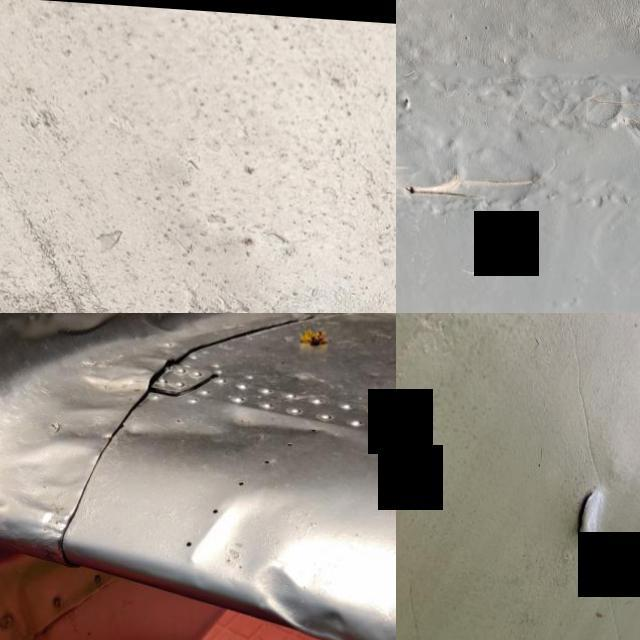Crack: (396, 149, 552, 212), (560, 472, 621, 552), (581, 69, 640, 140)
Dent: (248, 533, 396, 640), (163, 387, 336, 468)
